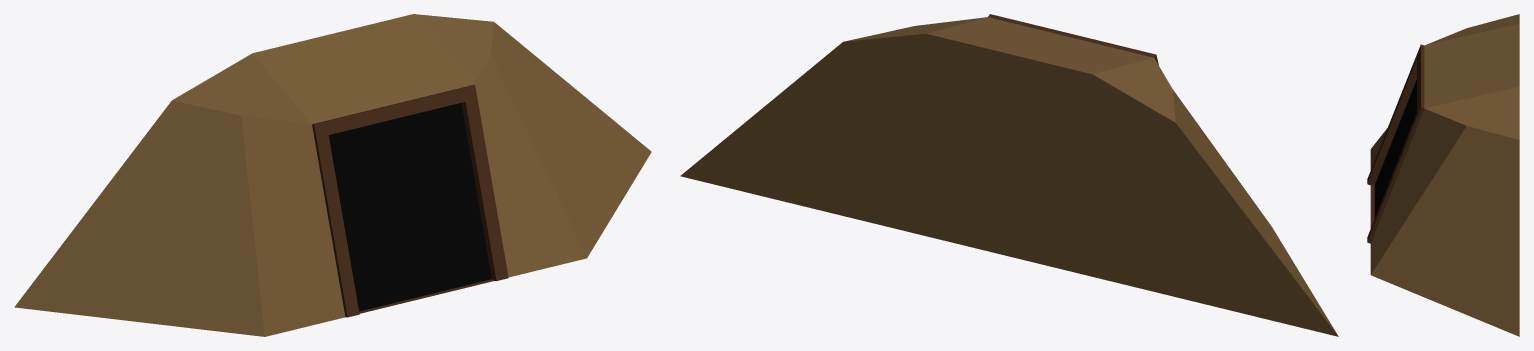
Rendered from mineshaft.fbx.
3 renders of one model, left to right at view 1: azimuth 30°, elevation 25°; view 2: azimuth 150°, elevation 25°; view 3: azimuth 270°, elevation 25°, orthographic. The views are drawn at different scales.
Visible parts, largest first — view 1: Cube; view 2: Cube; view 3: Cube.
Boxes of the visible parts, <box> form: Cube: <box>14,14,651,336</box>; Cube: <box>680,14,1338,336</box>; Cube: <box>1367,14,1519,336</box>.
Bounding box in the file's own units: 792 × 234 × 205.
